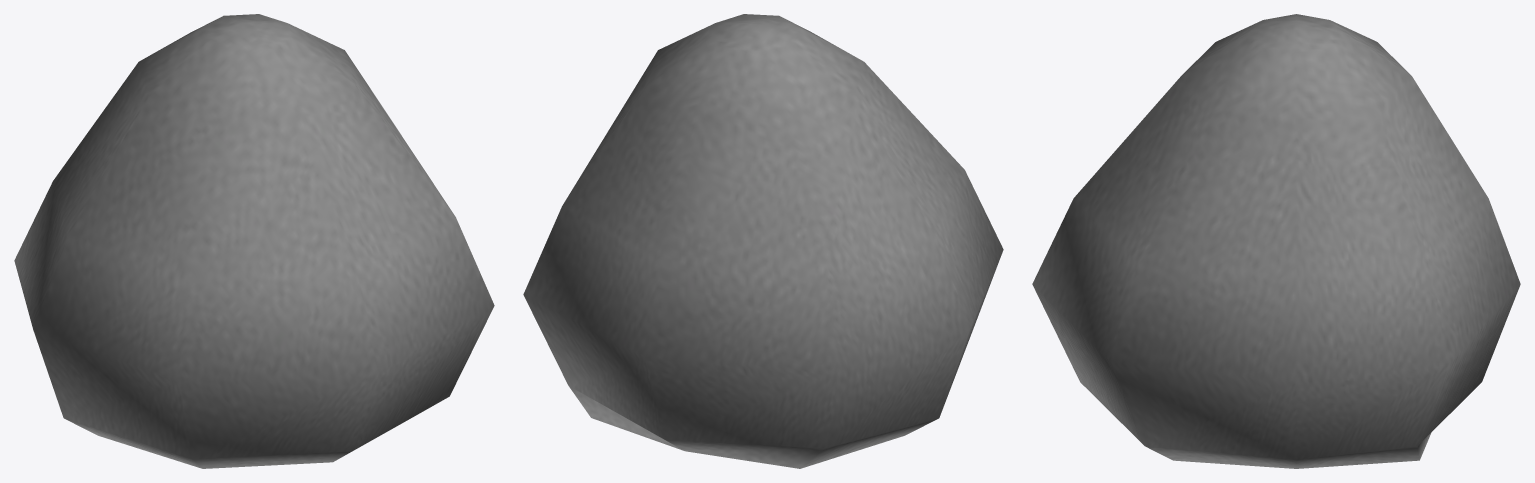
Rendered from Pietre_1.fbx.
3 renders of one model, left to right at view 1: azimuth 30°, elevation 25°; view 2: azimuth 150°, elevation 25°; view 3: azimuth 270°, elevation 25°, orthographic. The views are drawn at different scales.
Visible parts, largest first — view 1: pCube1; view 2: pCube1; view 3: pCube1.
Part boxes in pixels (bbox=[...]): pCube1: bbox=[14, 14, 494, 468]; pCube1: bbox=[523, 14, 1003, 468]; pCube1: bbox=[1032, 14, 1520, 468].
Bounding box in the file's own units: 1.31 × 1.15 × 1.33.
Materials: 1 (1 with a texture image).
